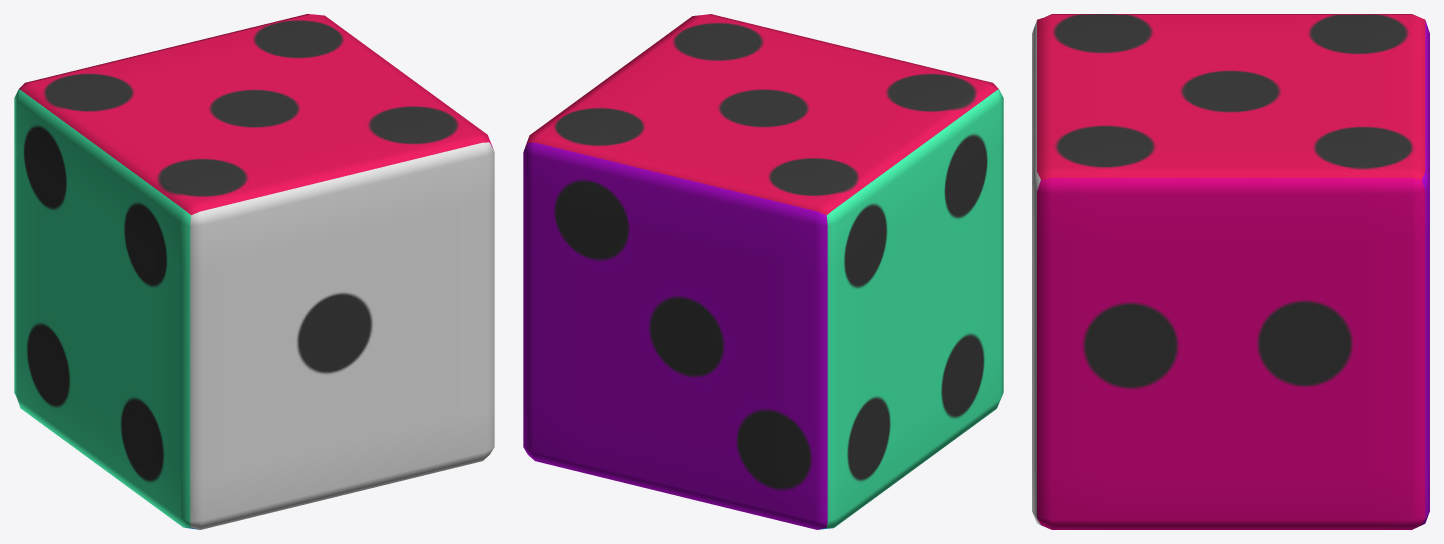
File: Dice.fbx
3 renders of one model, left to right at view 1: azimuth 30°, elevation 25°; view 2: azimuth 150°, elevation 25°; view 3: azimuth 270°, elevation 25°, orthographic. The views are drawn at different scales.
Visible parts, largest first — view 1: pCube1; view 2: pCube1; view 3: pCube1.
Part boxes in pixels (x1=…): pCube1: x1=14, y1=14, x2=494, y2=529; pCube1: x1=523, y1=14, x2=1003, y2=529; pCube1: x1=1032, y1=14, x2=1429, y2=529.
Size of the model in its own units: 1 by 1 by 1.
Materials: 1 (1 with a texture image).
